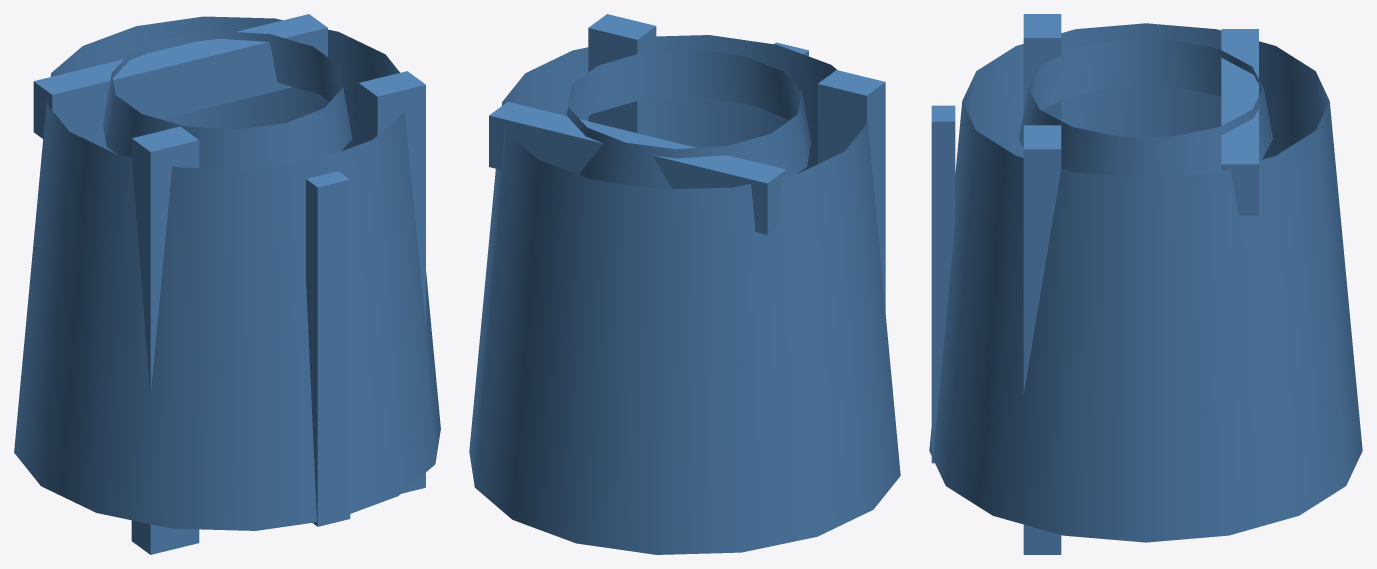
Rendered from sherwani-blue.glb.
The picture shows the model from 3 angles, left to right: view 1: azimuth 30°, elevation 25°; view 2: azimuth 150°, elevation 25°; view 3: azimuth 270°, elevation 25°; orthographic projection.
Visible parts, largest first — view 1: SherwaniOutfitMesh; view 2: SherwaniOutfitMesh; view 3: SherwaniOutfitMesh.
Part boxes in pixels (x1,y1,x2,y2): SherwaniOutfitMesh: [14, 14, 440, 554]; SherwaniOutfitMesh: [469, 14, 900, 554]; SherwaniOutfitMesh: [929, 14, 1362, 554].
Bounding box in the file's own units: 0.92 × 0.95 × 0.92.
